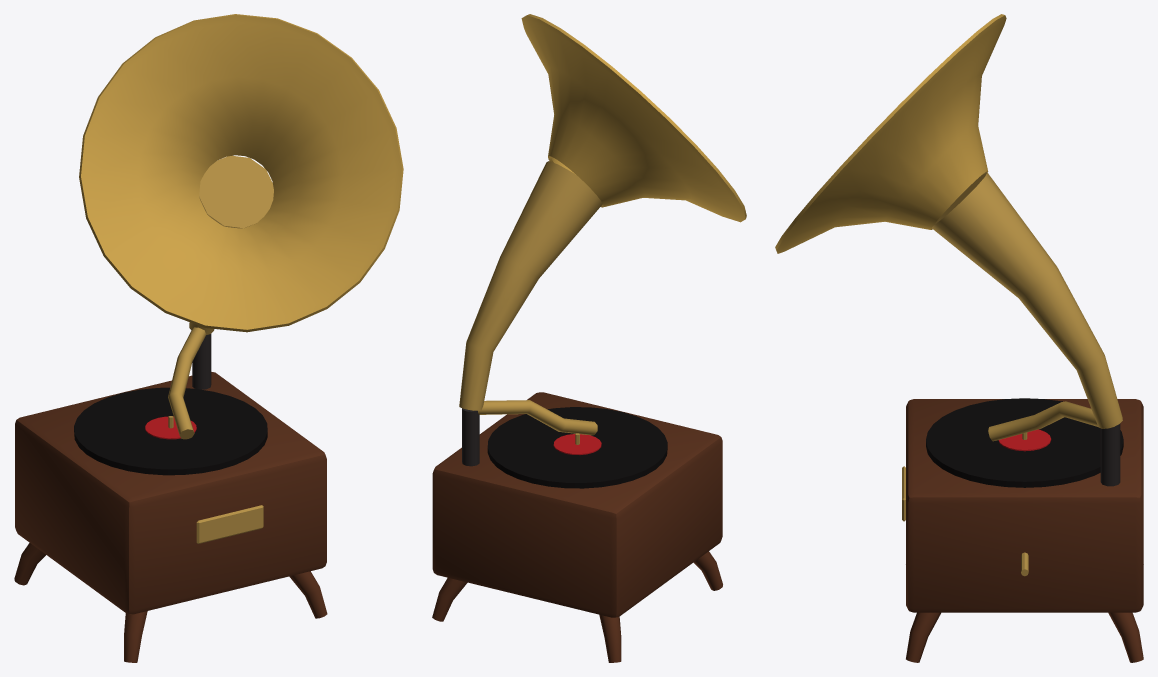
File: PR_Gramophone.fbx
3 views of the same model, side by side, from view 1: azimuth 30°, elevation 25°; view 2: azimuth 150°, elevation 25°; view 3: azimuth 270°, elevation 25° (orthographic). The views are drawn at different scales.
Visible parts, largest first — view 1: PR_Gramophone_Gold, PR_Gramophone_WoodDark, PR_Gramophone_Record, PR_Gramophone_Brass, PR_Gramophone_Iron, PR_Gramophone_Tie; view 2: PR_Gramophone_WoodDark, PR_Gramophone_Gold, PR_Gramophone_Brass, PR_Gramophone_Record, PR_Gramophone_Iron, PR_Gramophone_Tie; view 3: PR_Gramophone_WoodDark, PR_Gramophone_Gold, PR_Gramophone_Brass, PR_Gramophone_Record, PR_Gramophone_Iron, PR_Gramophone_Tie.
Boxes of the visible parts, x1=… form: PR_Gramophone_Gold: x1=79, y1=14, x2=403, y2=332; PR_Gramophone_WoodDark: x1=14, y1=372, x2=327, y2=662; PR_Gramophone_Record: x1=74, y1=387, x2=267, y2=475; PR_Gramophone_Brass: x1=168, y1=155, x2=273, y2=543; PR_Gramophone_Iron: x1=192, y1=334, x2=211, y2=389; PR_Gramophone_Tie: x1=145, y1=416, x2=196, y2=439; PR_Gramophone_WoodDark: x1=432, y1=392, x2=722, y2=662; PR_Gramophone_Gold: x1=521, y1=14, x2=746, y2=222; PR_Gramophone_Brass: x1=459, y1=161, x2=602, y2=444; PR_Gramophone_Record: x1=487, y1=407, x2=667, y2=488; PR_Gramophone_Iron: x1=462, y1=408, x2=479, y2=466; PR_Gramophone_Tie: x1=553, y1=434, x2=601, y2=454; PR_Gramophone_WoodDark: x1=906, y1=399, x2=1143, y2=662; PR_Gramophone_Gold: x1=775, y1=14, x2=1006, y2=253; PR_Gramophone_Brass: x1=902, y1=172, x2=1122, y2=576; PR_Gramophone_Record: x1=926, y1=398, x2=1123, y2=487; PR_Gramophone_Iron: x1=1100, y1=423, x2=1120, y2=486; PR_Gramophone_Tie: x1=998, y1=429, x2=1051, y2=451.
Size of the model in its own units: 0.4691 by 1.01 by 0.559.
